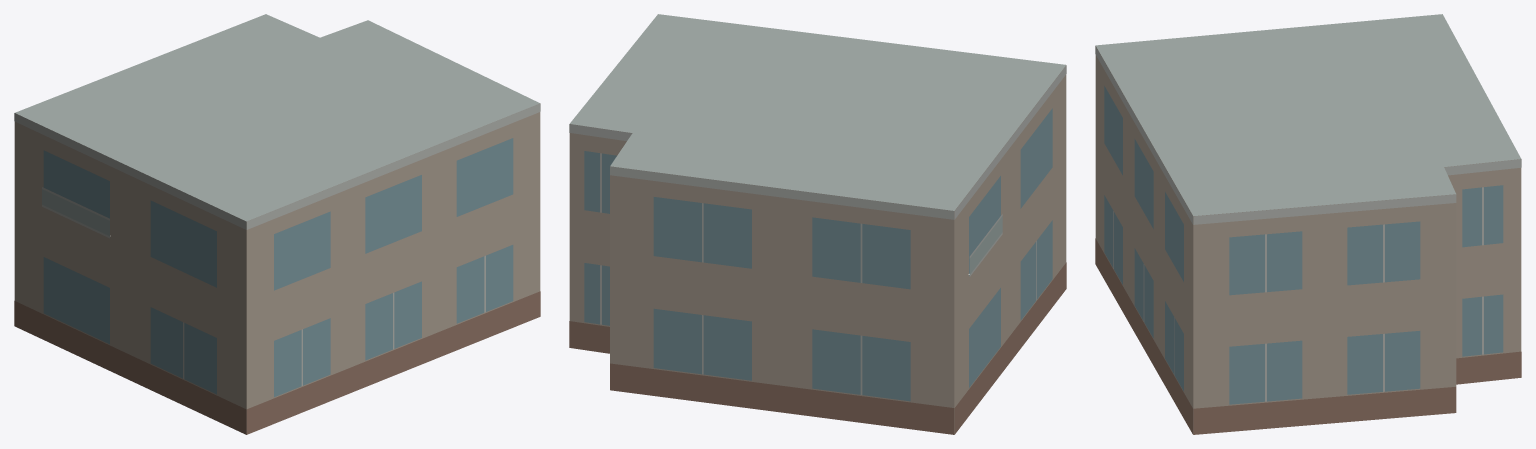
File: survey-upis-32512992.glb
3 views of the same model, side by side, from view 1: azimuth 30°, elevation 25°; view 2: azimuth 150°, elevation 25°; view 3: azimuth 270°, elevation 25° (orthographic). The views are drawn at different scales.
Visible parts, largest first — view 1: survey-upis-32512992.tmp; view 2: survey-upis-32512992.tmp; view 3: survey-upis-32512992.tmp.
Part boxes in pixels (x1,y1,x2,y2): survey-upis-32512992.tmp: (14,14,540,434); survey-upis-32512992.tmp: (569,14,1066,434); survey-upis-32512992.tmp: (1095,14,1521,434).
Size of the model in its own units: 12.1 by 6.1 by 10.78.
